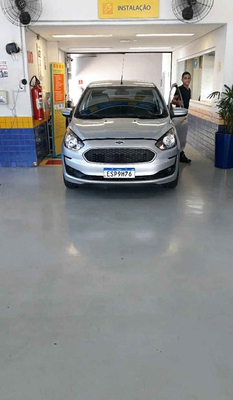Frontal Veiculo: (62, 82, 181, 190)
